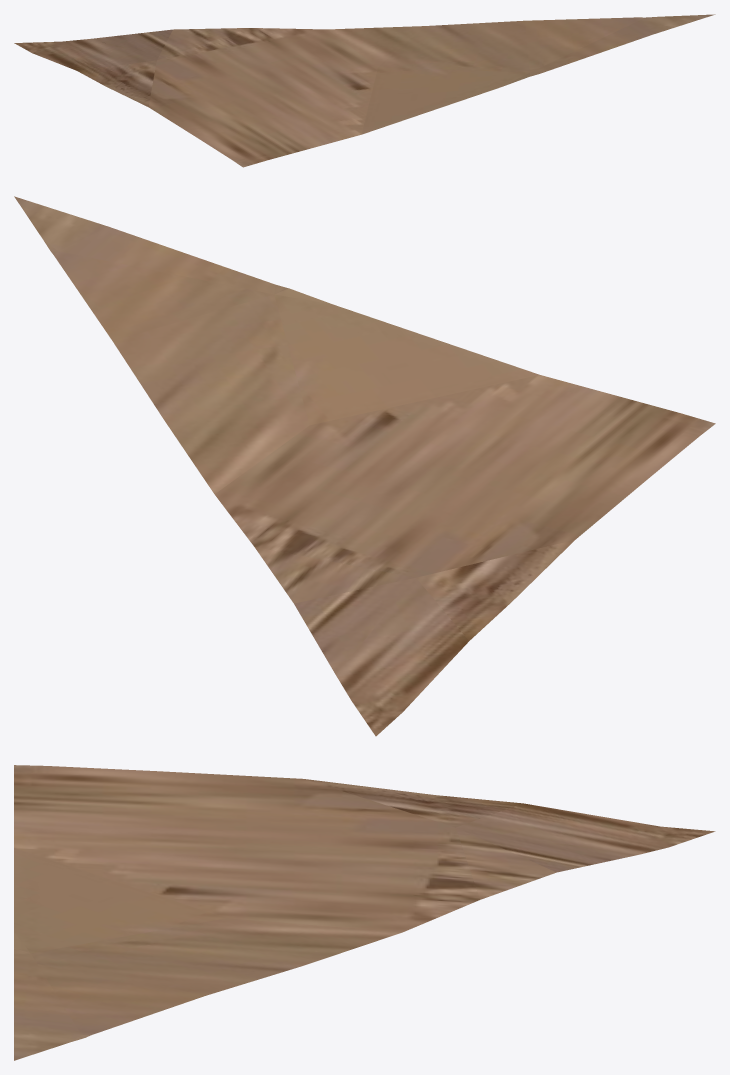
The picture shows the model from 3 angles, top to bottom: view 1: azimuth 30°, elevation 25°; view 2: azimuth 150°, elevation 25°; view 3: azimuth 270°, elevation 25°; orthographic projection. The views are drawn at different scales.
Size of the model in its own units: 1.12 by 0.1827 by 0.937.
Materials: 1 (1 with a texture image).
